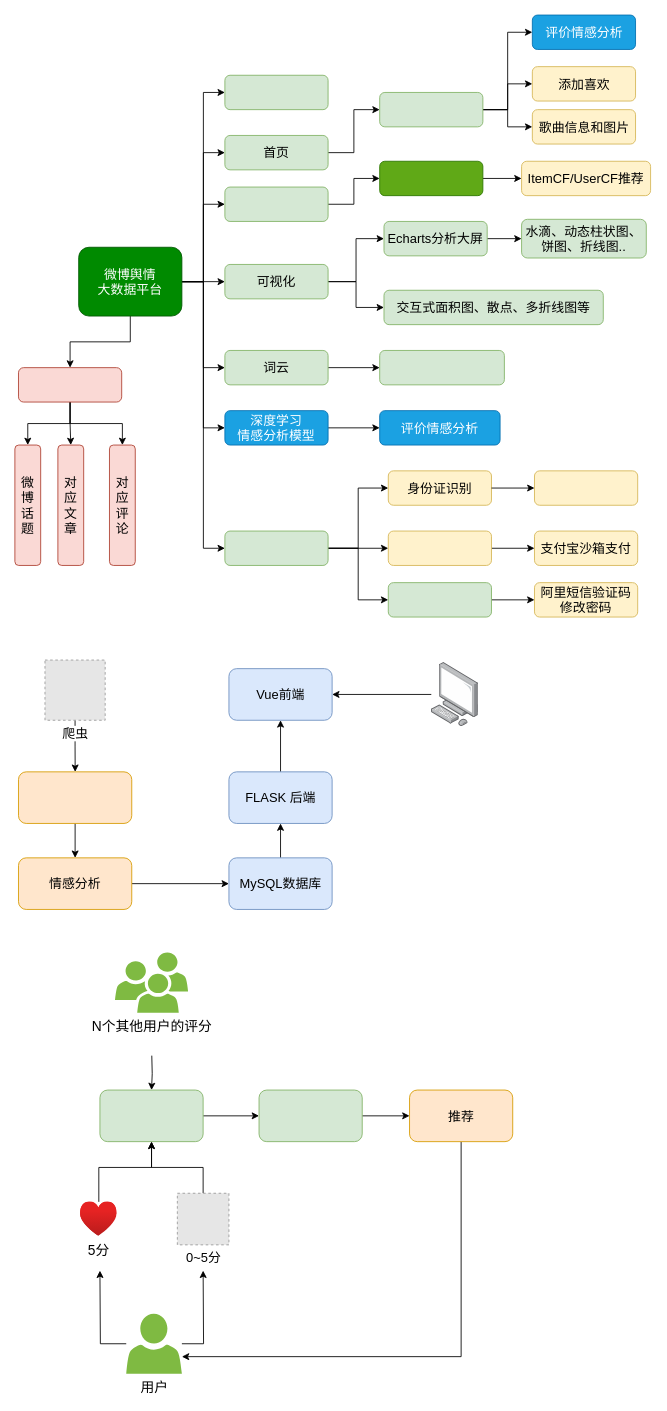
The diagram is 667 pixels wide and 1411 high, and some of its shapes have lost their labels. Grey dashed boxes stand in for pictures. Each missing label, with the centre of its shape:
修改个人信息: point (439, 599)
充值: point (439, 547)
协同过滤: point (310, 1115)
协同过滤 推荐算法: point (431, 178)
歌曲卡片: point (431, 109)
歌曲库: point (276, 203)
歌词词云/评论词云: point (441, 367)
浏览器访问: point (454, 694)
爬虫模块: point (70, 384)
登录与注册: point (276, 92)
百度AI图像识别: point (586, 487)
设置: point (276, 547)
评分数据集: point (151, 1115)
话题、文章、评论: point (75, 797)
